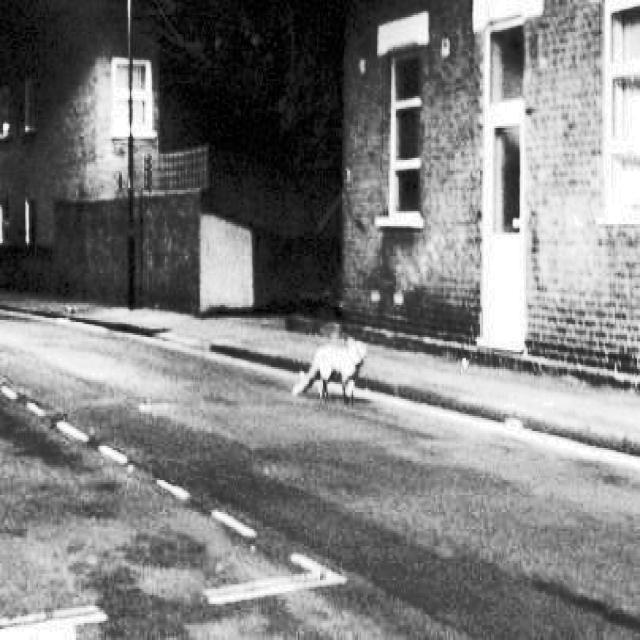Cat: (296, 311, 377, 424)
